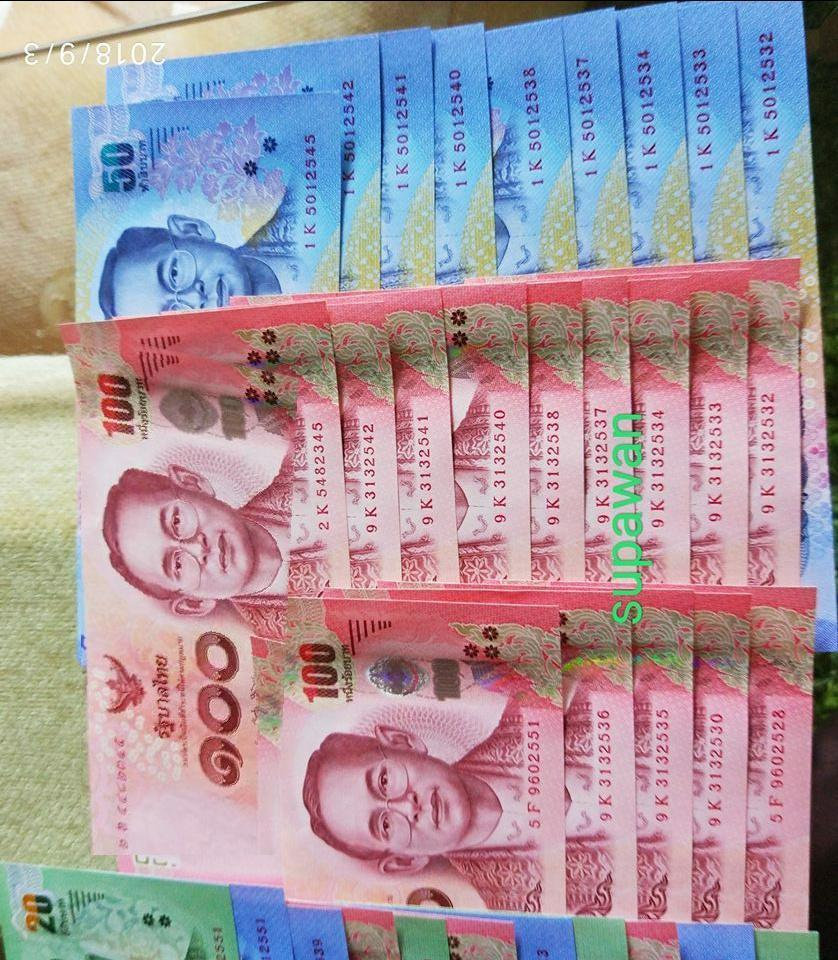100BahtTai: (82, 331, 299, 855)
